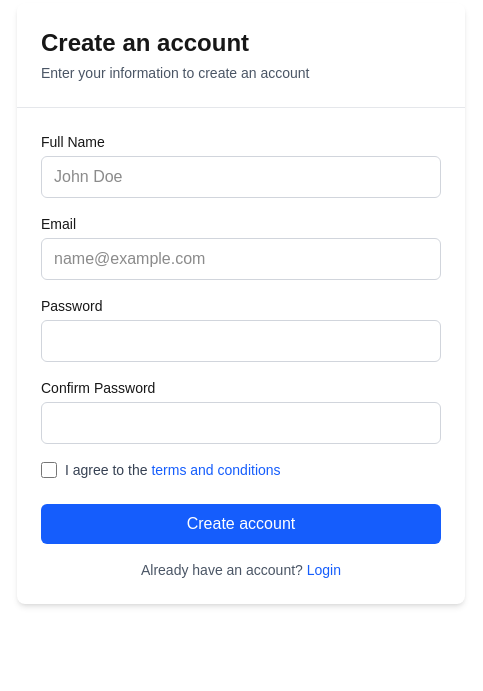
Scenario: SignupPage › validates terms agreement
This screenshot has width=483, height=691.
Type "Test User" into the field labelled "Full Name" at {"x": 241, "y": 177}, box [41,156,441,198]
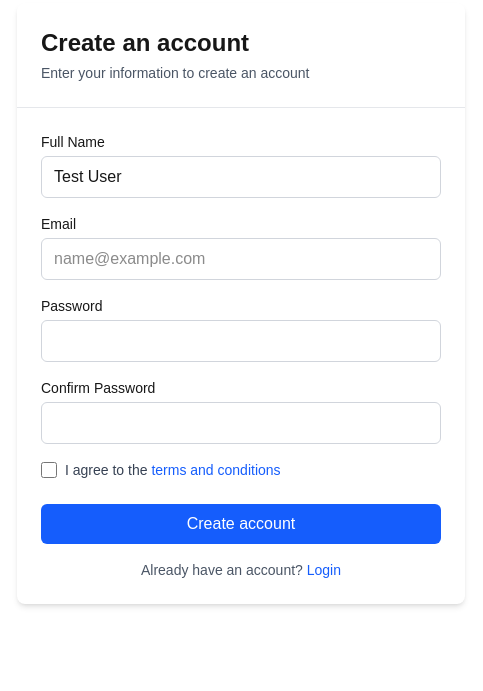
Type "test@example.com" into the field labelled "Email" at {"x": 241, "y": 259}, box [41,238,441,280]
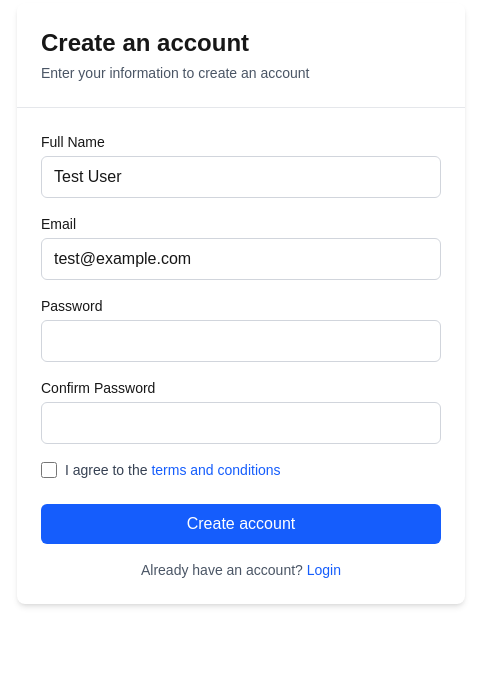
Type "password123" into the password field labelled "Password" at {"x": 241, "y": 341}, box [41,320,441,362]
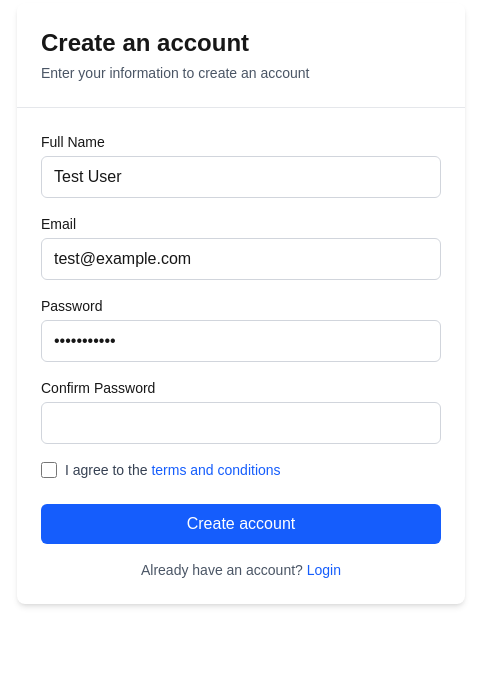
Type "password123" into the password field labelled "Confirm Password" at {"x": 241, "y": 423}, box [41,402,441,444]
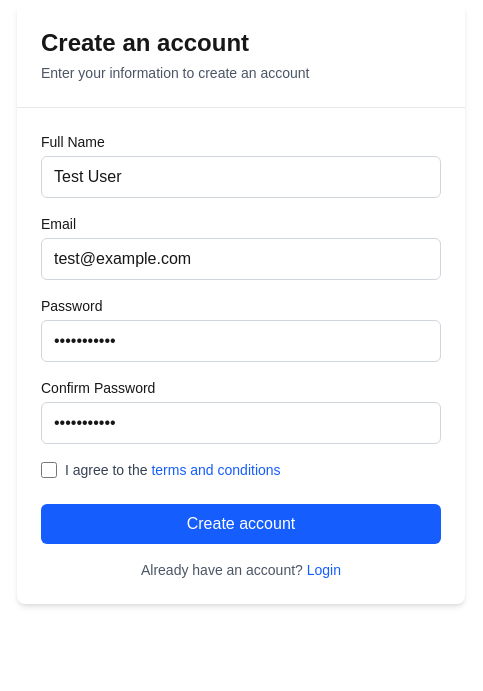
// Terms not agreed
Click the button "Create account" at {"x": 241, "y": 524}, box [41,504,441,544]
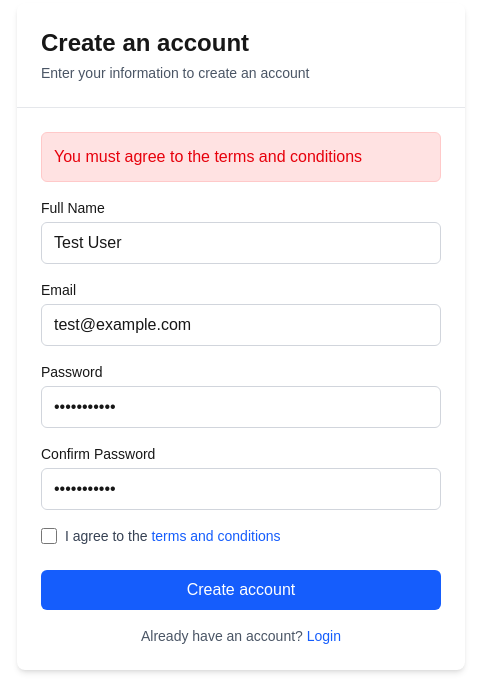
Check: the text "You must agree to the terms and conditions" is shown, box [41,132,441,182]
